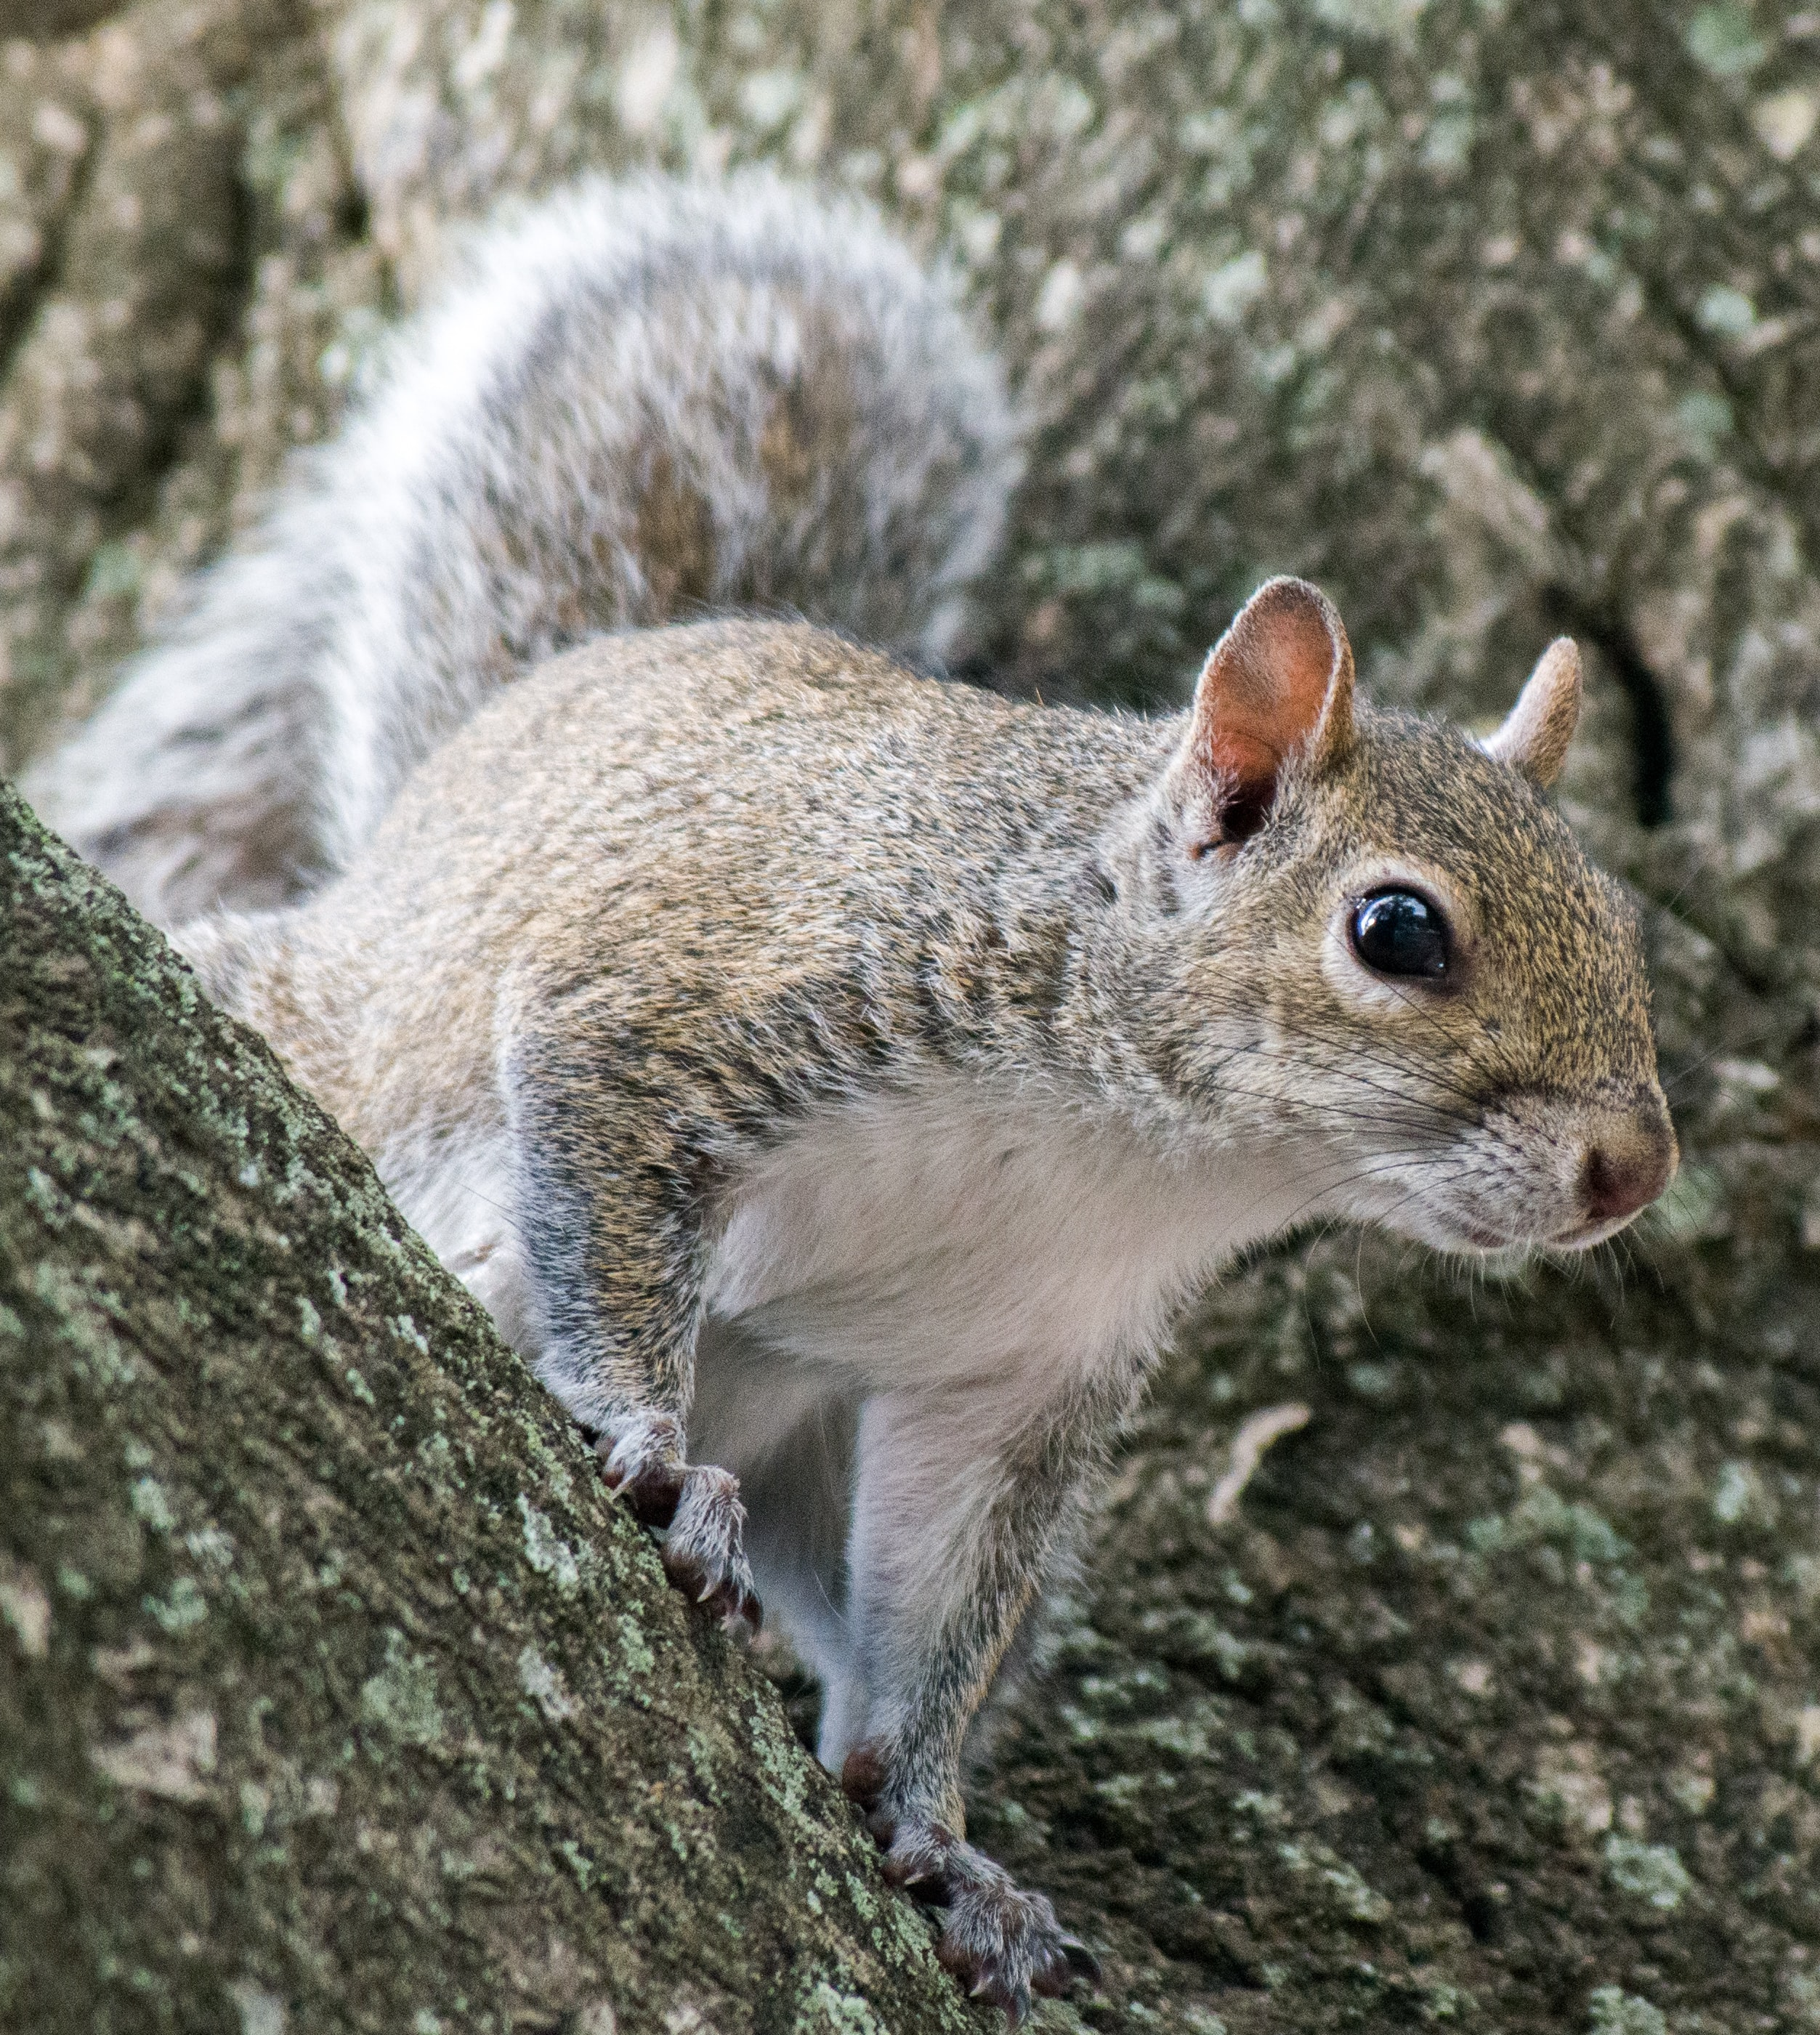squirrel: (130, 160, 1683, 1794)
